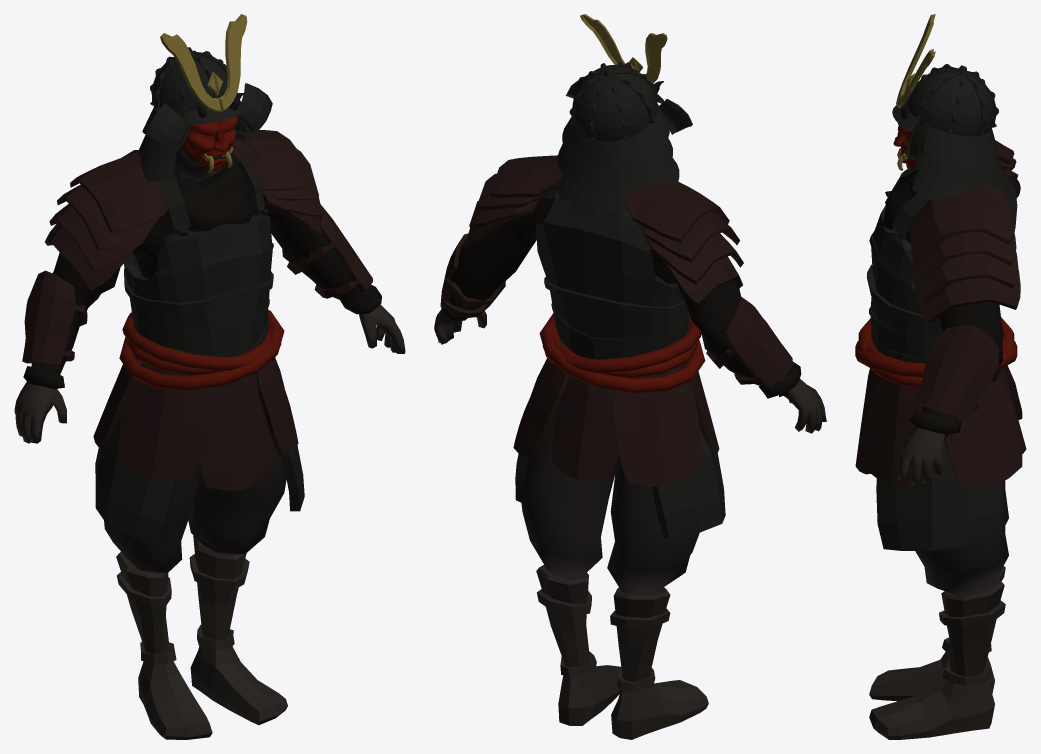
File: SamuraiFinalmodel2.fbx
3 renders of one model, left to right at view 1: azimuth 30°, elevation 25°; view 2: azimuth 150°, elevation 25°; view 3: azimuth 270°, elevation 25°, orthographic.
Parts seen in each view (by area): view 1: Body.005, Bottom Plates, Chest Plate, Body.004, Body.006, Shoulder Plate Right Arm, Belt, Shoulder Plate Left Arm, Right Arm Plate, Left Arm Plate; view 2: Body.005, Bottom Plates, Chest Plate, Body.004, Shoulder Plate Right Arm, Body.006, Belt, Shoulder Plate Left Arm, Right Arm Plate, Left Arm Plate; view 3: Bottom Plates, Body.005, Body.004, Shoulder Plate Left Arm, Chest Plate, Left Arm Plate, Body.006, Belt, Shoulder Plate Right Arm.
Part boxes in pixels (bbox=[...]): Body.005: bbox=[14, 112, 405, 739]; Bottom Plates: bbox=[93, 352, 304, 546]; Chest Plate: bbox=[124, 153, 273, 374]; Body.004: bbox=[138, 14, 272, 181]; Body.006: bbox=[23, 158, 381, 389]; Shoulder Plate Right Arm: bbox=[45, 150, 168, 290]; Belt: bbox=[119, 310, 284, 390]; Shoulder Plate Left Arm: bbox=[230, 129, 322, 234]; Right Arm Plate: bbox=[22, 270, 87, 366]; Left Arm Plate: bbox=[287, 204, 372, 298]; Body.005: bbox=[434, 308, 826, 739]; Bottom Plates: bbox=[513, 355, 725, 537]; Chest Plate: bbox=[536, 189, 690, 377]; Body.004: bbox=[552, 14, 692, 217]; Shoulder Plate Right Arm: bbox=[623, 181, 743, 306]; Body.006: bbox=[441, 188, 801, 398]; Belt: bbox=[539, 313, 705, 393]; Shoulder Plate Left Arm: bbox=[464, 155, 563, 250]; Right Arm Plate: bbox=[706, 297, 792, 387]; Left Arm Plate: bbox=[440, 233, 505, 317]; Bottom Plates: bbox=[855, 365, 1026, 550]; Body.005: bbox=[869, 168, 1008, 739]; Body.004: bbox=[892, 14, 1009, 202]; Shoulder Plate Left Arm: bbox=[909, 185, 1020, 323]; Chest Plate: bbox=[867, 168, 1017, 363]; Left Arm Plate: bbox=[915, 324, 1000, 419]; Body.006: bbox=[882, 170, 1003, 436]; Belt: bbox=[855, 317, 1017, 387]; Shoulder Plate Right Arm: bbox=[995, 140, 1020, 197].
Size of the model in its own units: 407 by 705 by 161.
